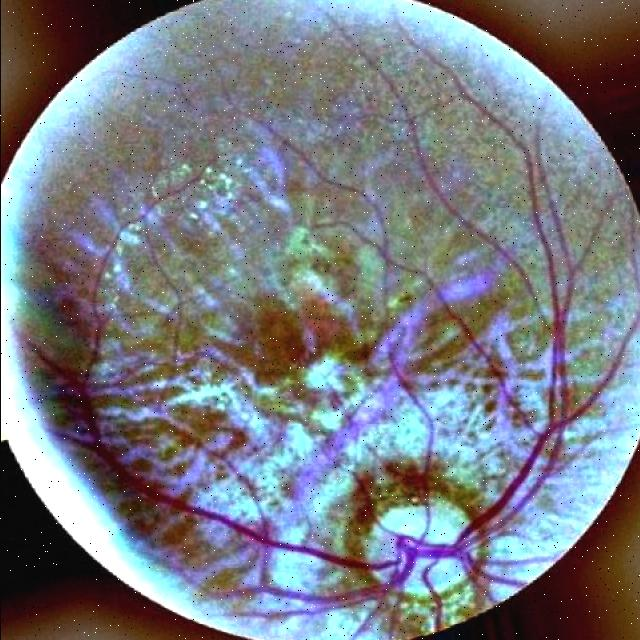Macula: (269, 295, 340, 386)
Nerves: (63, 372, 437, 613), (444, 69, 578, 565)
Optic Disk: (350, 482, 485, 606)
